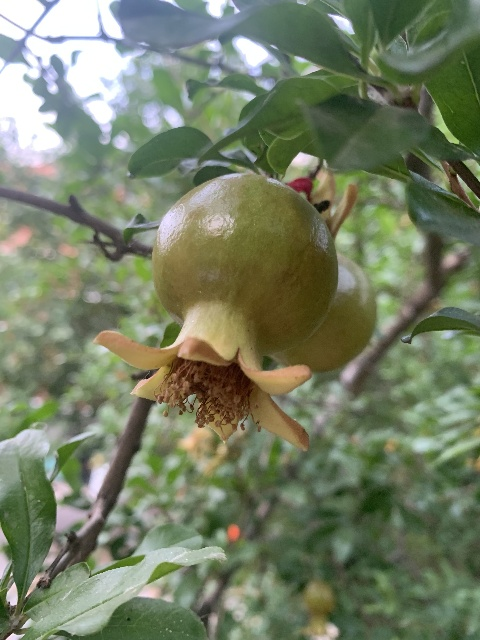mid-growth: (90, 171, 348, 450), (266, 168, 376, 373), (293, 581, 334, 637)
